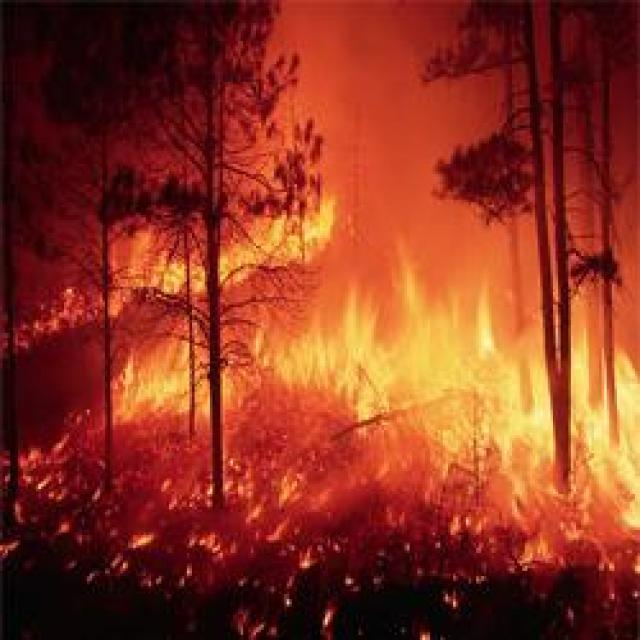fire: (359, 278, 634, 556), (63, 365, 390, 587), (43, 170, 352, 344)
